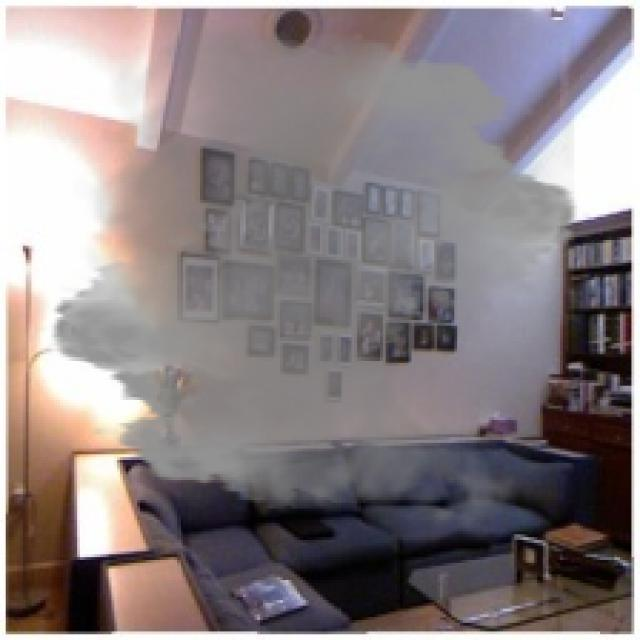Smoke: (34, 11, 594, 546)
